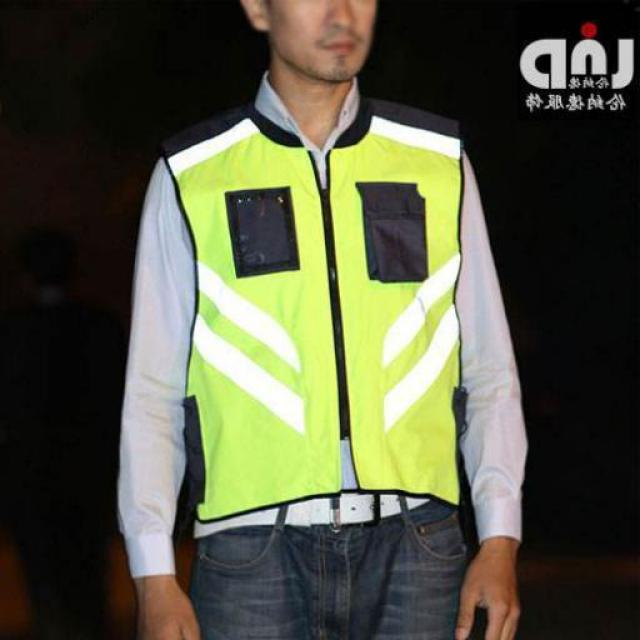vest: (167, 112, 467, 515)
